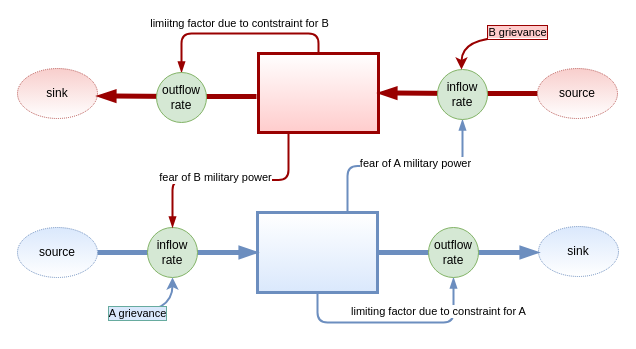
Image size: 636x349. Some labels were removed from this diagram. Each missing label, with the box of its shape:
arms expenditure country A: (256, 210, 378, 294)
arms expenditure country B: (256, 52, 380, 134)
